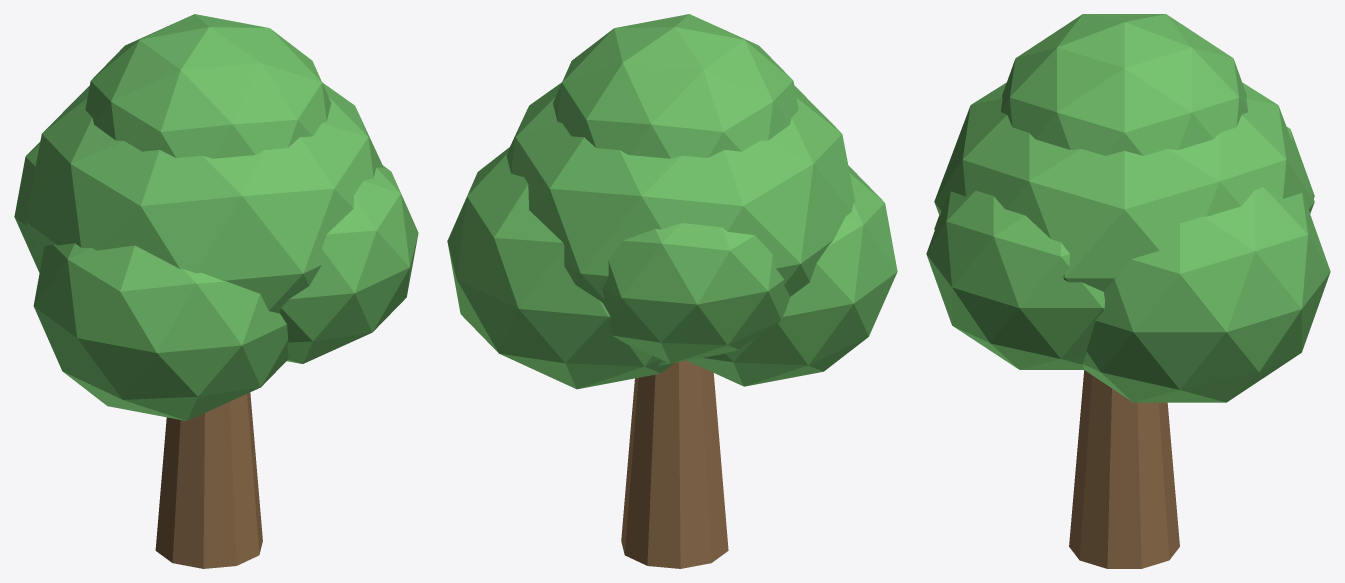
The model's file is prop_tree_stylized.glb.
3 renders of one model, left to right at view 1: azimuth 30°, elevation 25°; view 2: azimuth 150°, elevation 25°; view 3: azimuth 270°, elevation 25°, orthographic.
Parts seen in each view (by area): view 1: Foliage_0, Foliage_1, Foliage_5, Trunk, Foliage_3, Foliage_4; view 2: Foliage_0, Foliage_5, Foliage_2, Foliage_4, Trunk, Foliage_1; view 3: Foliage_2, Foliage_0, Foliage_5, Foliage_3, Trunk.
Part boxes in pixels (x1,y1,x2,y2): Foliage_0: [25, 82, 383, 313]; Foliage_1: [33, 243, 288, 420]; Foliage_5: [85, 14, 331, 158]; Trunk: [155, 392, 262, 568]; Foliage_3: [280, 165, 418, 363]; Foliage_4: [14, 142, 42, 272]; Foliage_0: [506, 82, 854, 365]; Foliage_5: [553, 14, 798, 158]; Foliage_2: [447, 146, 673, 389]; Foliage_4: [602, 223, 789, 363]; Trunk: [621, 360, 728, 568]; Foliage_1: [687, 165, 897, 386]; Foliage_2: [1082, 187, 1330, 402]; Foliage_0: [934, 82, 1314, 291]; Foliage_5: [1001, 14, 1248, 155]; Foliage_3: [926, 190, 1104, 369]; Trunk: [1069, 370, 1179, 568].
Size of the model in its own units: 5.22 by 7.3 by 5.1.
